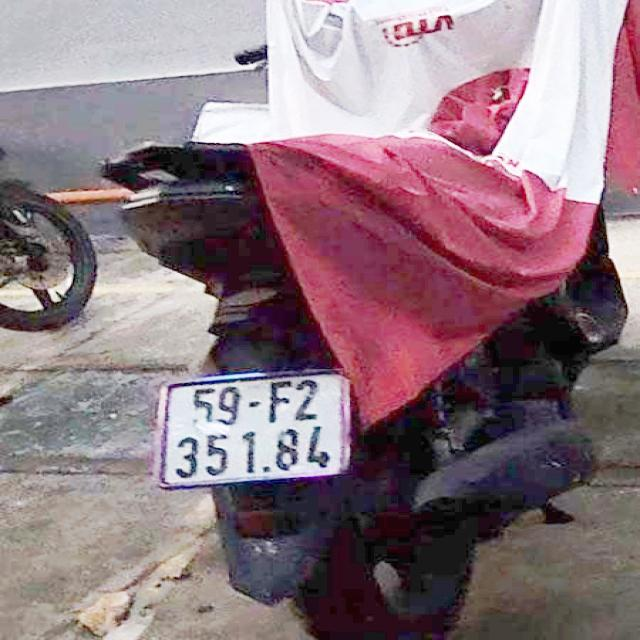license_plate: (160, 375, 346, 488)
